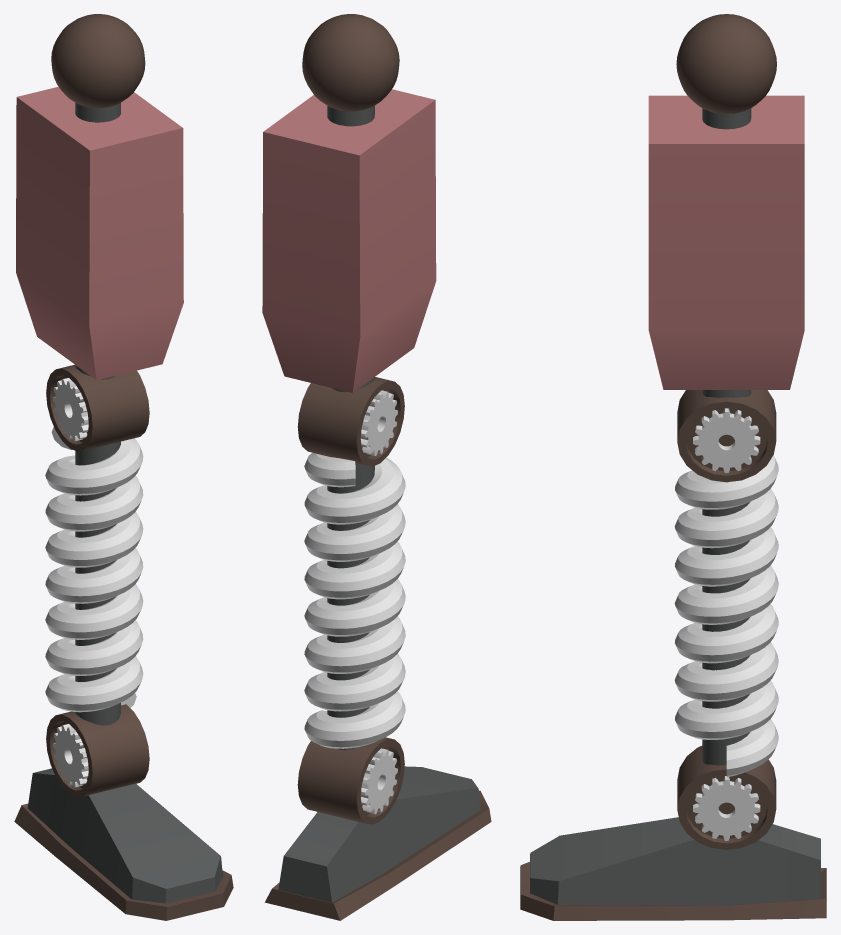
Rendered from Leg.fbx.
3 renders of one model, left to right at view 1: azimuth 30°, elevation 25°; view 2: azimuth 150°, elevation 25°; view 3: azimuth 270°, elevation 25°, orthographic. The views are drawn at different scales.
Parts seen in each view (by area): view 1: pCube28; view 2: pCube28; view 3: pCube28.
Part boxes in pixels (x1=…): pCube28: x1=14, y1=14, x2=233, y2=920; pCube28: x1=262, y1=14, x2=491, y2=920; pCube28: x1=520, y1=14, x2=826, y2=920.
Size of the model in its own units: 2.67 by 19.52 by 6.16.
